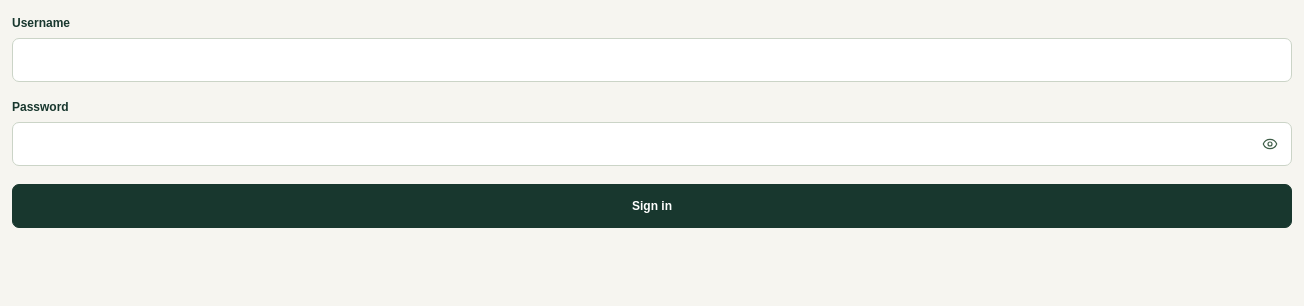
Scenario: LoginForm › keeps incorrect sign-in on screen with a retryable error
The width and height of the screenshot is (1304, 306).
Type "worker" into the field labelled "Username" at [652, 60], box top-left (12, 38), bottom-right (1292, 82)
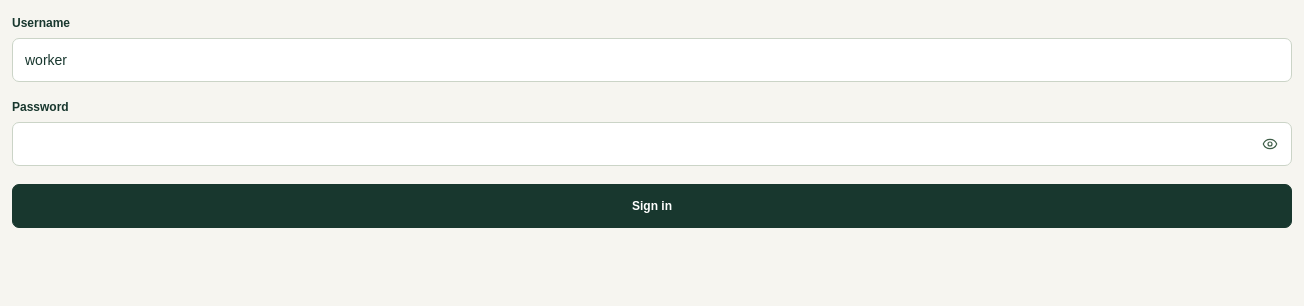
Type "test-only-password" into the password field labelled "Password" at [652, 144], box top-left (12, 122), bottom-right (1292, 166)
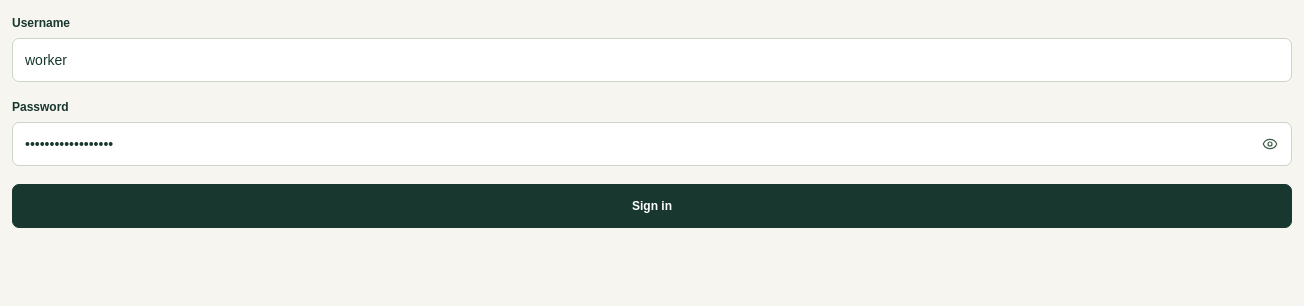
Submit the form "Sign in"
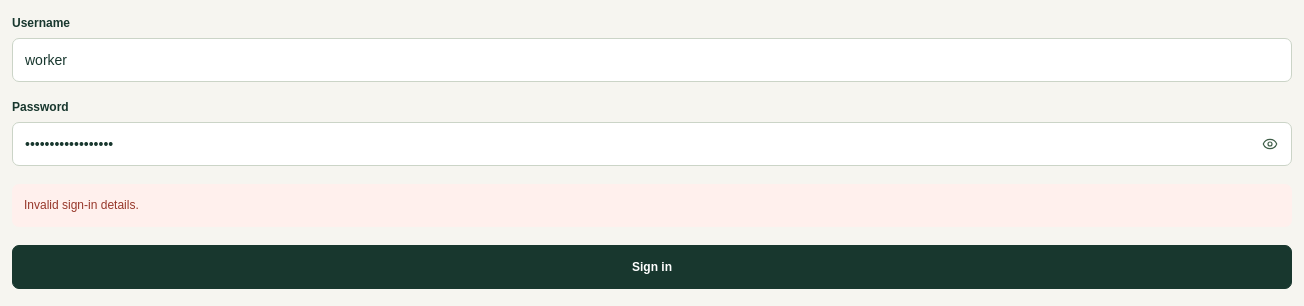
Expected: the button "Sign in" is enabled, top-left (12, 245), bottom-right (1292, 289)
Expected: the message reads "Invalid sign-in details.", top-left (24, 198), bottom-right (139, 212)
